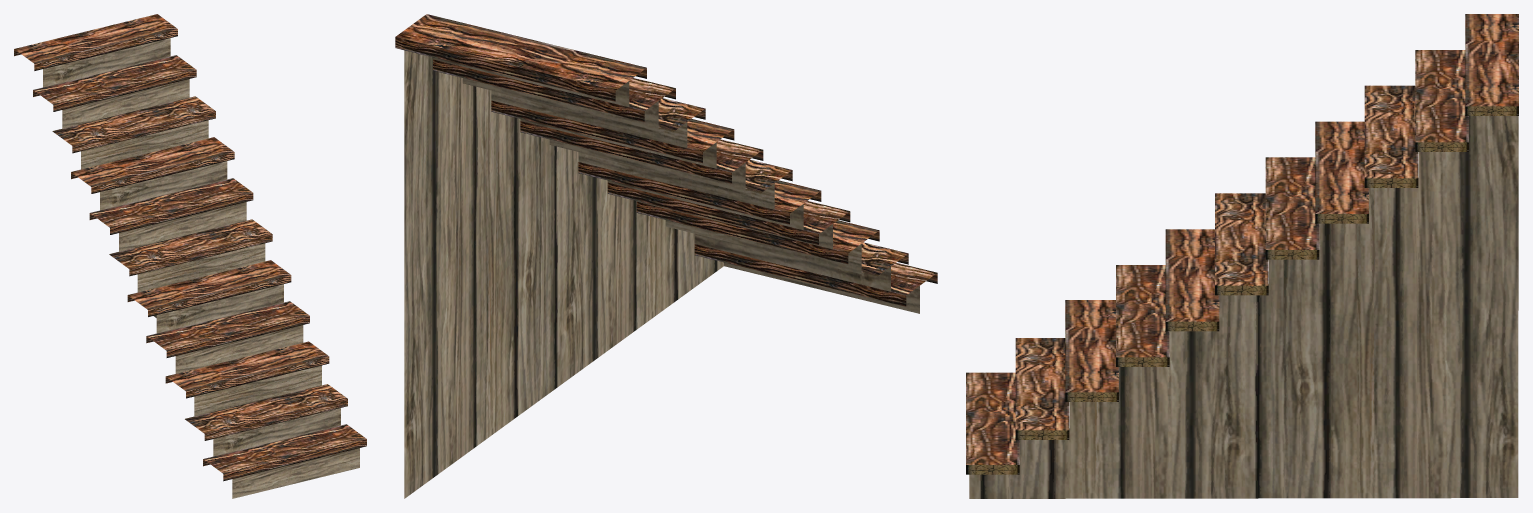
The model's file is LAKETOWN_PUB_PS_PUB_STEP48.fbx.
3 renders of one model, left to right at view 1: azimuth 30°, elevation 25°; view 2: azimuth 150°, elevation 25°; view 3: azimuth 270°, elevation 25°, orthographic. The views are drawn at different scales.
Parts seen in each view (by area): view 1: LAKETOWN_PUB_PS_PUB_STEP48; view 2: LAKETOWN_PUB_PS_PUB_STEP48; view 3: LAKETOWN_PUB_PS_PUB_STEP48.
Boxes of the visible parts, <box> form: LAKETOWN_PUB_PS_PUB_STEP48: <box>14,14,366,498</box>; LAKETOWN_PUB_PS_PUB_STEP48: <box>395,14,937,498</box>; LAKETOWN_PUB_PS_PUB_STEP48: <box>966,14,1518,498</box>.
Bounding box in the file's own units: 14662 × 29321 × 37073.
Materials: 3 (3 with a texture image).
